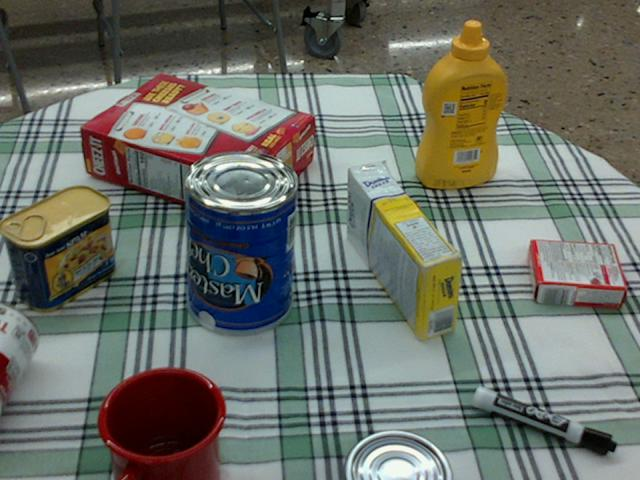cracker_box: (80, 74, 312, 221)
gelatin_box: (526, 240, 625, 308)
large_marker: (473, 386, 615, 454)
master_chef_can: (181, 150, 296, 334)
mug: (91, 365, 220, 479)
mustard_bottle: (414, 21, 506, 187)
potted_meat_can: (0, 185, 114, 311)
sugar_box: (345, 163, 461, 339)
tomato_soup_can: (0, 302, 37, 408)
tuna_fish_can: (341, 432, 451, 479)
